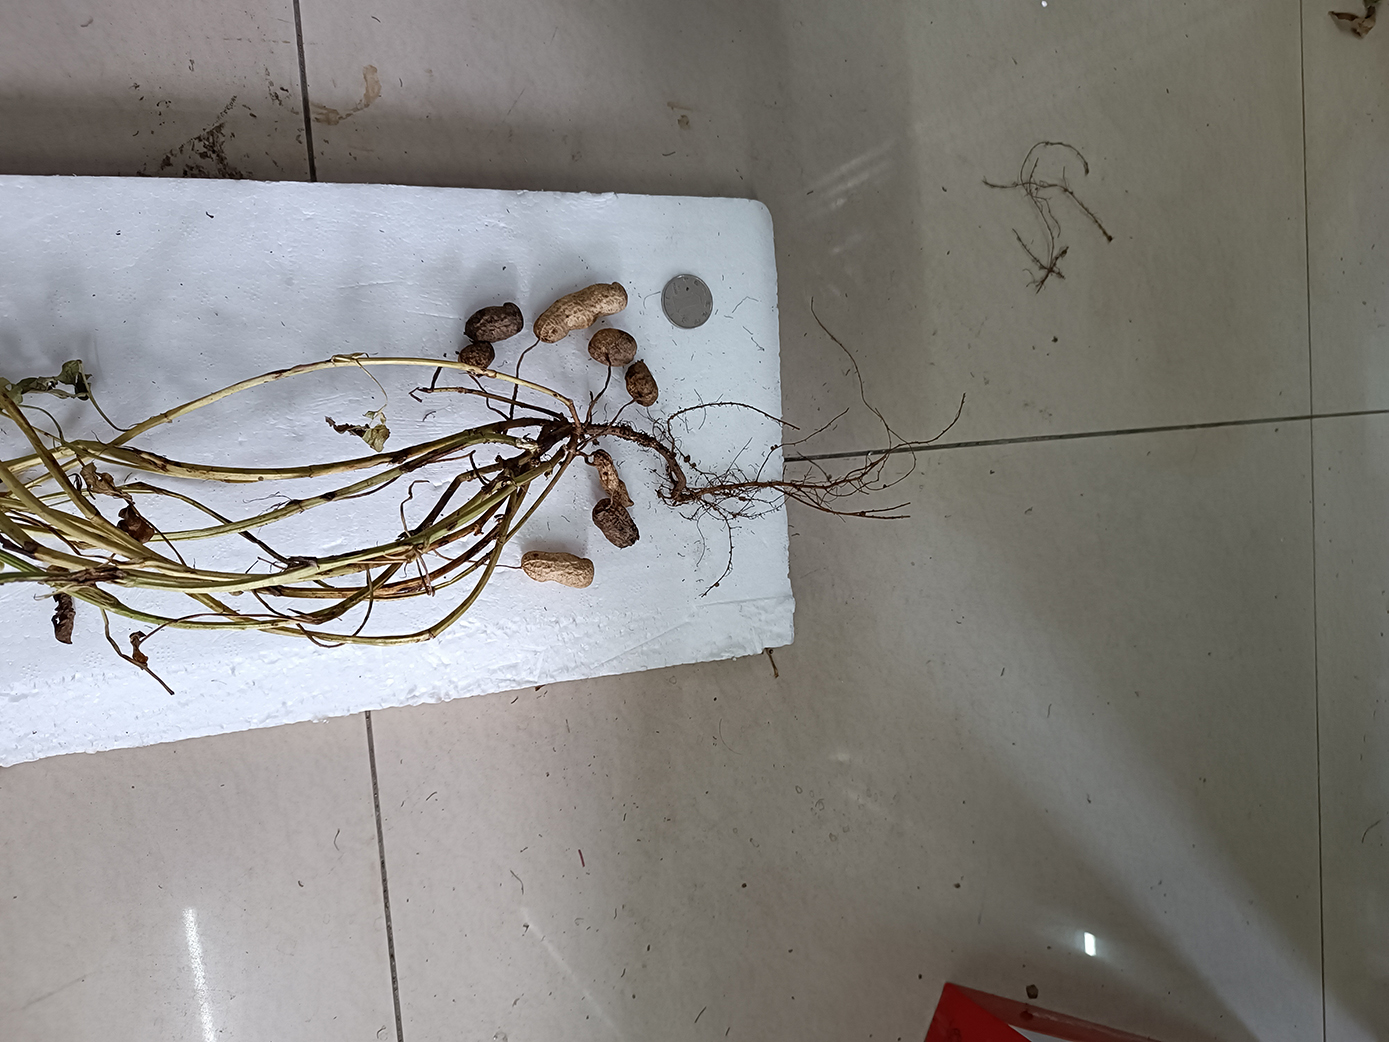h: (531, 281, 627, 343), (521, 551, 593, 587)
l: (463, 301, 525, 343), (592, 499, 640, 547), (595, 450, 635, 506), (588, 331, 637, 364), (624, 360, 659, 406), (459, 341, 496, 370)
